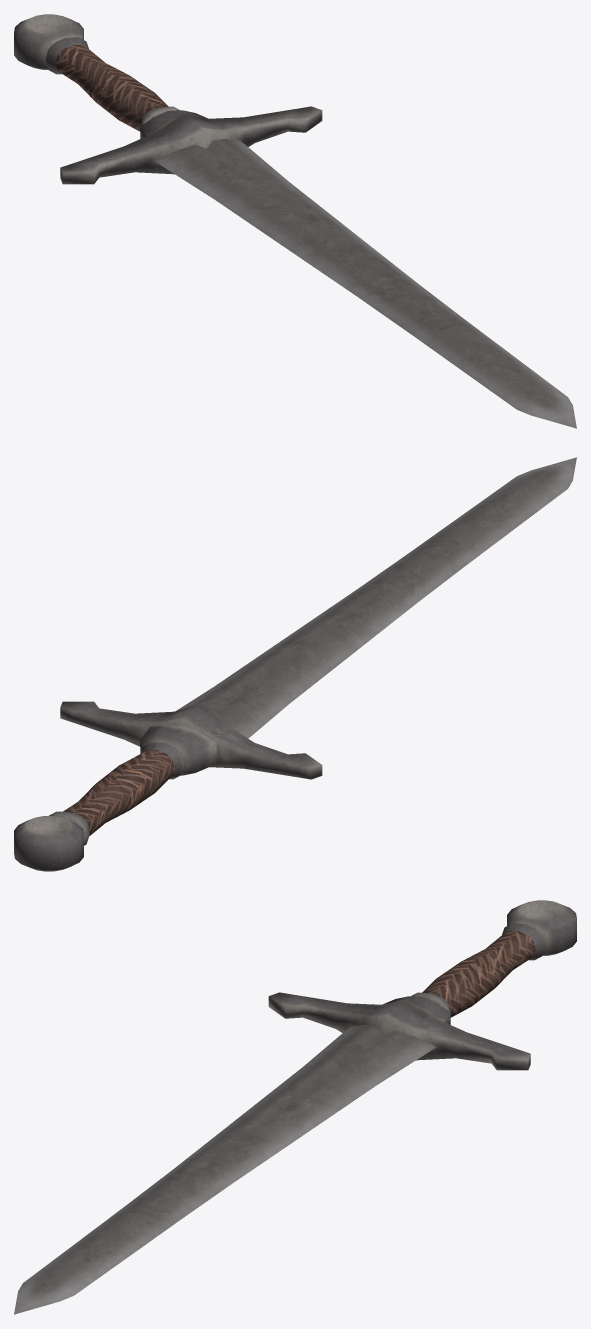
The model's file is Warrior_Lv2_Sword.fbx.
The picture shows the model from 3 angles, top to bottom: view 1: azimuth 30°, elevation 25°; view 2: azimuth 150°, elevation 25°; view 3: azimuth 330°, elevation 25°; orthographic projection.
Visible parts, largest first — view 1: Sword_004; view 2: Sword_004; view 3: Sword_004.
Part boxes in pixels (x1,y1,x2,y2): Sword_004: (14,14,576,428); Sword_004: (14,457,576,871); Sword_004: (14,900,576,1314).
Bounding box in the file's own units: 20.68 × 4.14 × 75.28.
